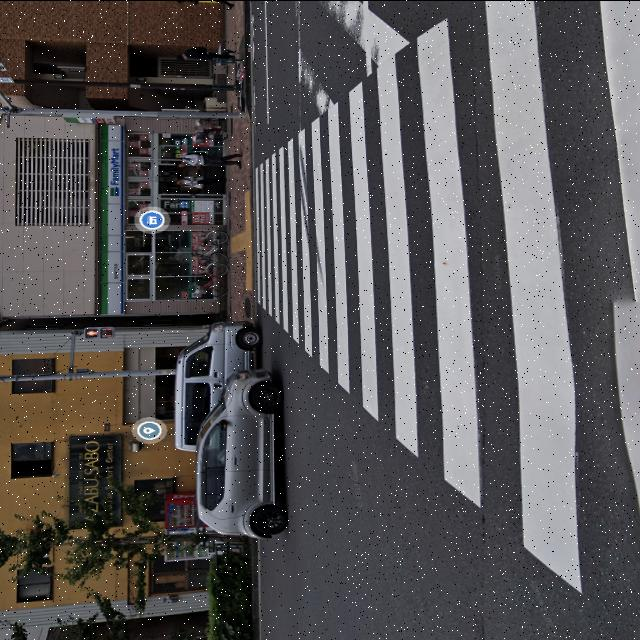traffic-light: (85, 327, 113, 337)
